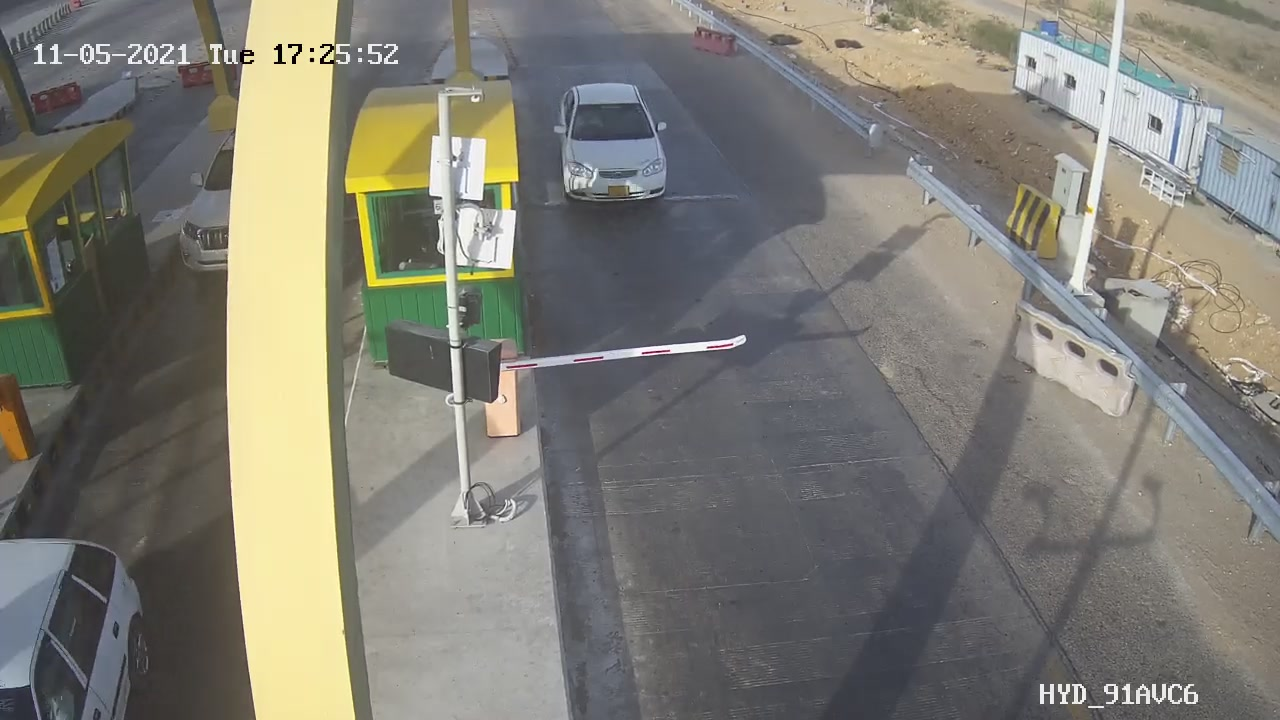F1: (535, 66, 691, 234)
